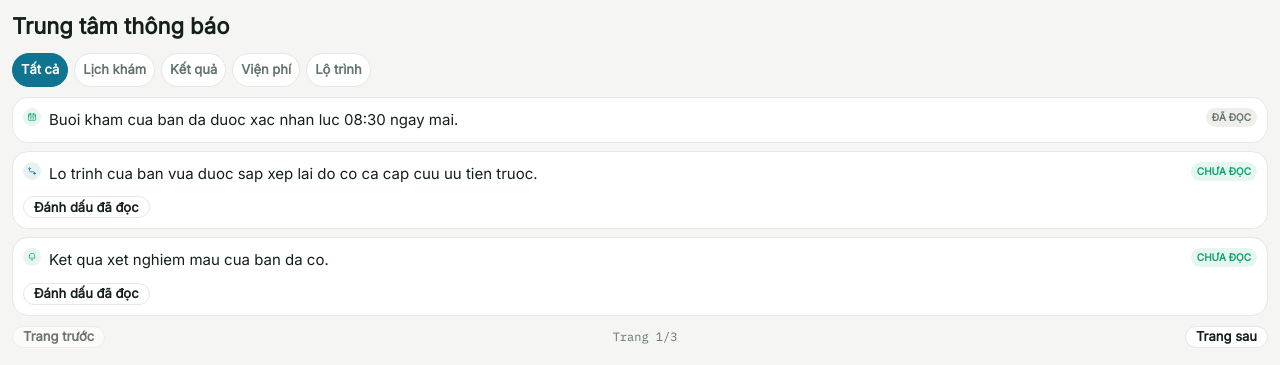
Scenario: NotificationsPage (SCR-09 Notifications center) › marks a notification as read
Expected: the text "Ket qua xet nghiem mau cua ban da co." is shown, [49,248,329,273]
Expected: the list item "Ket qua xet nghiem mau cua ban da co." is shown, [49,250,329,269]
Step 1. Click the button "Đánh dấu đã đọc" below "Ket qua xet nghiem mau cua ban da co." → x=86, y=294, box [23,283,150,305]
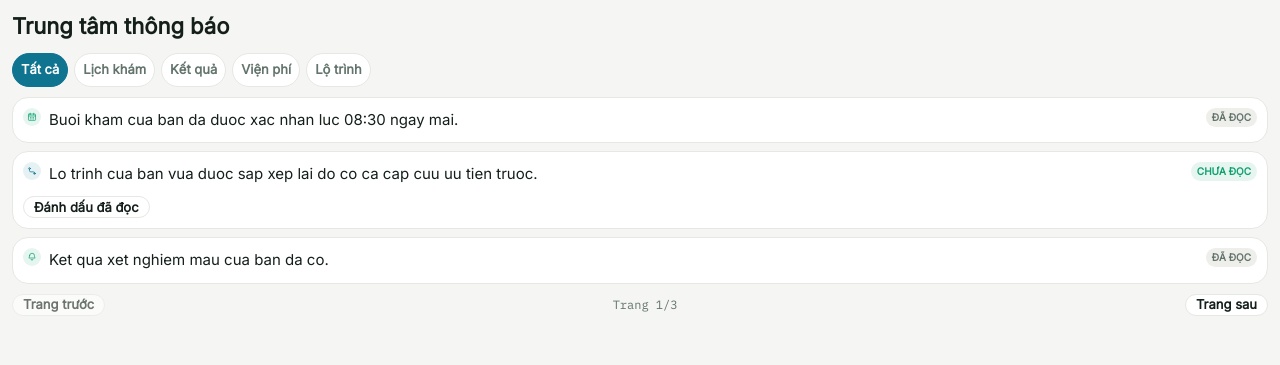
Result: the text "Đã đọc" in the row of "Ket qua xet nghiem mau cua ban da co." is shown at [1212,251,1251,263]
